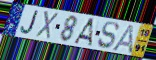8: (59, 14, 78, 43)
A: (110, 23, 135, 55), (72, 17, 95, 48)
J: (20, 9, 41, 36)
S: (97, 22, 120, 50)
X: (34, 10, 59, 41)
